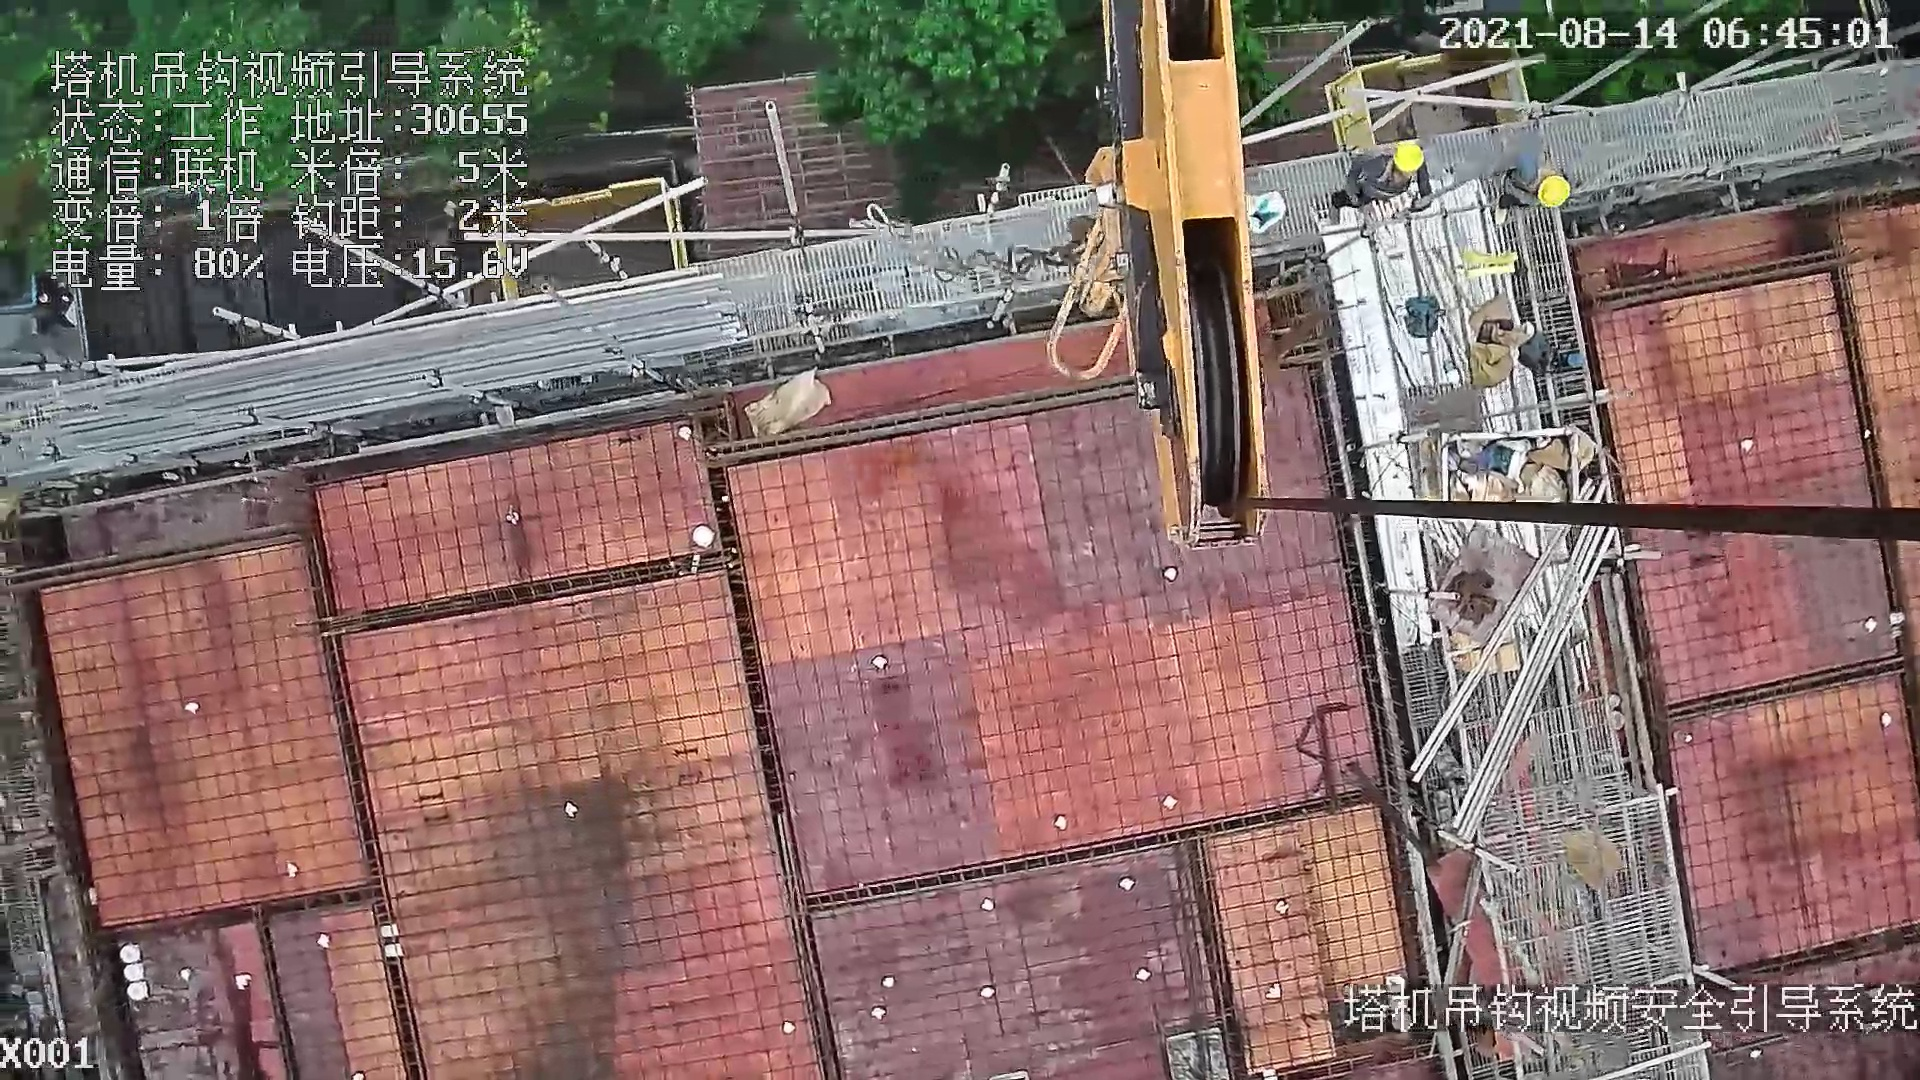helmet: (1538, 172, 1571, 208), (1393, 138, 1423, 168)
hook: (1047, 3, 1274, 551)
person: (1326, 144, 1436, 232), (1495, 163, 1574, 226)
